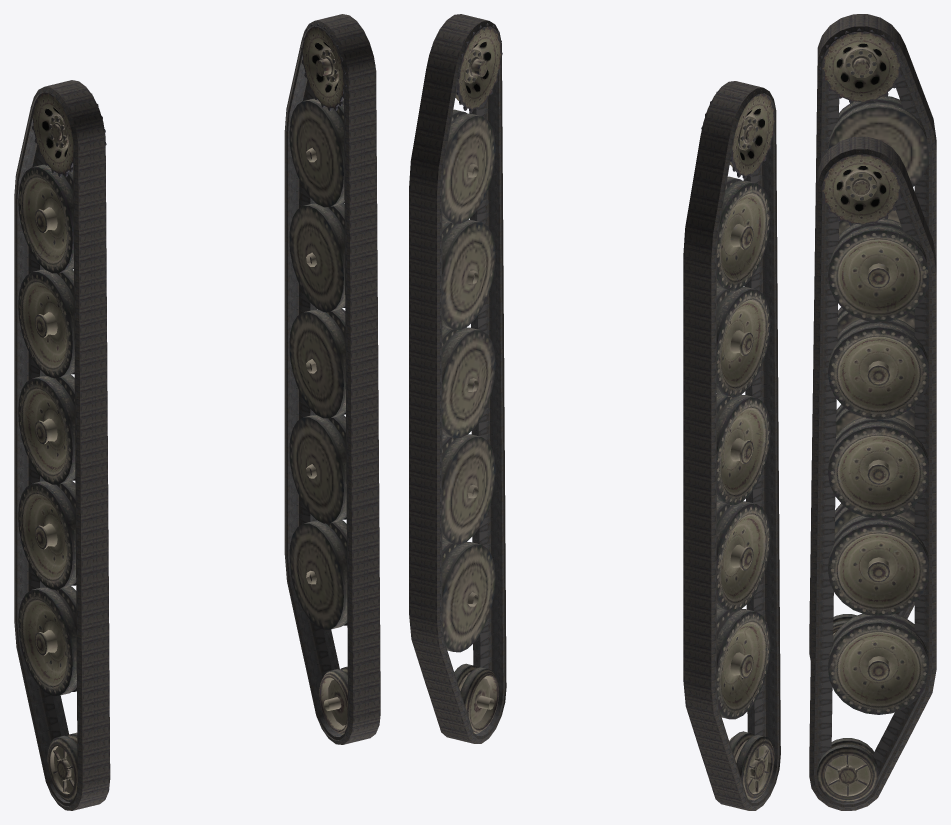
File: Chassis.glb
3 views of the same model, side by side, from view 1: azimuth 30°, elevation 25°; view 2: azimuth 150°, elevation 25°; view 3: azimuth 270°, elevation 25° (orthographic). The views are drawn at different scales.
Visible parts, largest first — view 1: set_1_group_0, set_0_group_0, set_2_group_0, set_3_group_0; view 2: set_1_group_0, set_0_group_0, set_2_group_0, set_3_group_0; view 3: set_3_group_0, set_1_group_0, set_2_group_0, set_0_group_0.
Part boxes in pixels (left/top/right/bottom): set_1_group_0: left=284, top=14, right=380, bottom=744; set_0_group_0: left=14, top=80, right=110, bottom=810; set_2_group_0: left=18, top=89, right=106, bottom=801; set_3_group_0: left=289, top=23, right=375, bottom=734; set_1_group_0: left=409, top=14, right=506, bottom=743; set_0_group_0: left=683, top=81, right=780, bottom=810; set_2_group_0: left=701, top=90, right=775, bottom=802; set_3_group_0: left=431, top=23, right=502, bottom=733; set_3_group_0: left=817, top=151, right=928, bottom=802; set_1_group_0: left=809, top=136, right=936, bottom=810; set_2_group_0: left=819, top=28, right=928, bottom=636; set_0_group_0: left=809, top=14, right=936, bottom=659.
Bounding box in the file's own units: 2.65 × 5.78 × 1.01.
4 materials, 4 textured.
